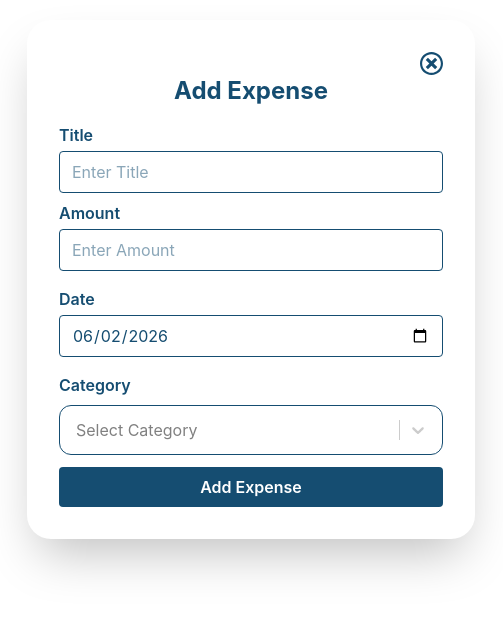
Scenario: AddExpenseModal › shows validation errors on empty submit
Click the button "Add Expense": click(251, 486) [59,466,443,506]
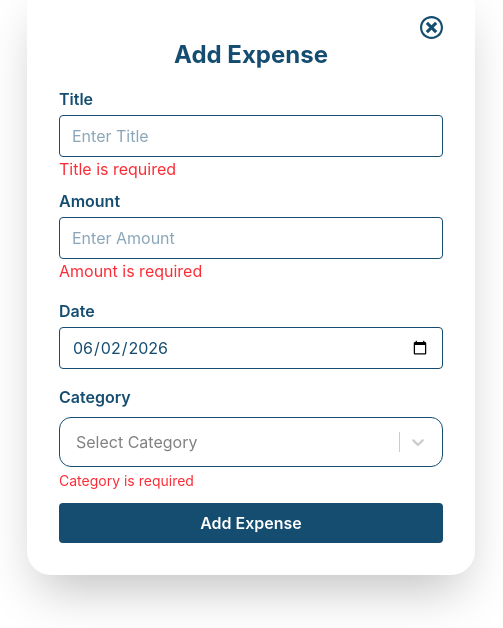
Check: the text "Title is required" is shown, box [59,158,176,178]
Check: the text "Amount is required" is shown, box [59,260,202,280]
